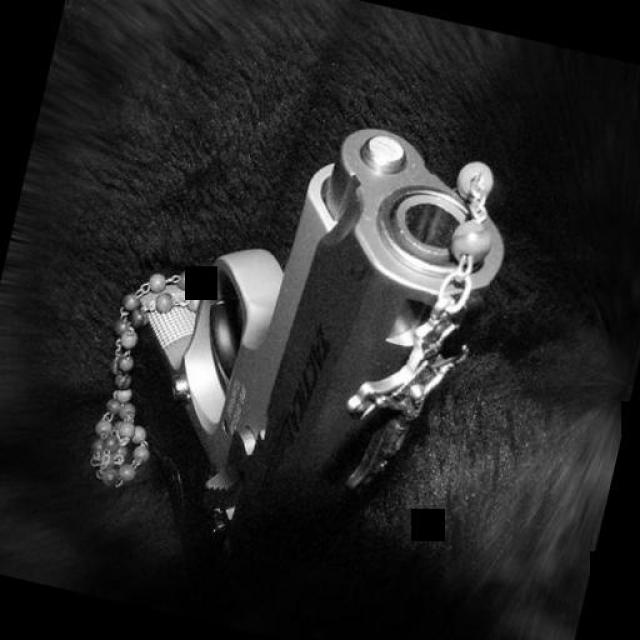gun: (61, 84, 530, 615)
